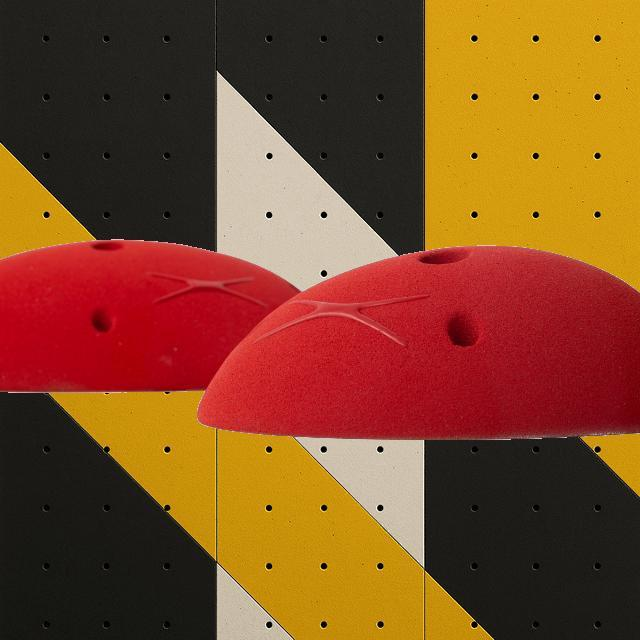Sloper: (193, 244, 639, 442), (0, 237, 302, 393)
